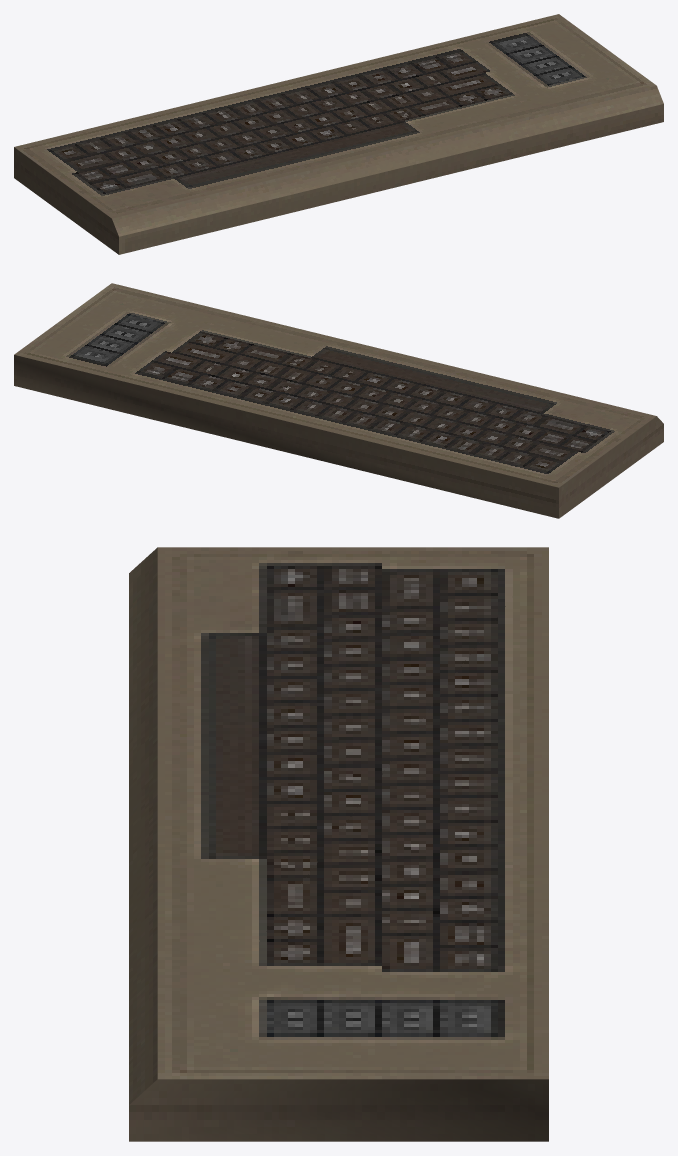
The model's file is pc_keyboard_mp_2.glb.
3 renders of one model, top to bottom at view 1: azimuth 30°, elevation 25°; view 2: azimuth 150°, elevation 25°; view 3: azimuth 270°, elevation 25°, orthographic. The views are drawn at different scales.
Visible parts, largest first — view 1: pc_keyboard_mp_2; view 2: pc_keyboard_mp_2; view 3: pc_keyboard_mp_2.
Part boxes in pixels (box(x1,y1,x2,y2)): pc_keyboard_mp_2: box(14, 14, 663, 254); pc_keyboard_mp_2: box(14, 283, 663, 518); pc_keyboard_mp_2: box(129, 547, 548, 1141).
Bounding box in the file's own units: 0.55 × 0.03 × 0.1836.
Materials: 1 (1 with a texture image).
